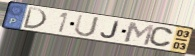1: (58, 13, 70, 34)
C: (148, 26, 175, 48)
D: (21, 6, 48, 31)
J: (99, 20, 120, 39)
M: (123, 21, 155, 47)
U: (73, 13, 101, 38)
